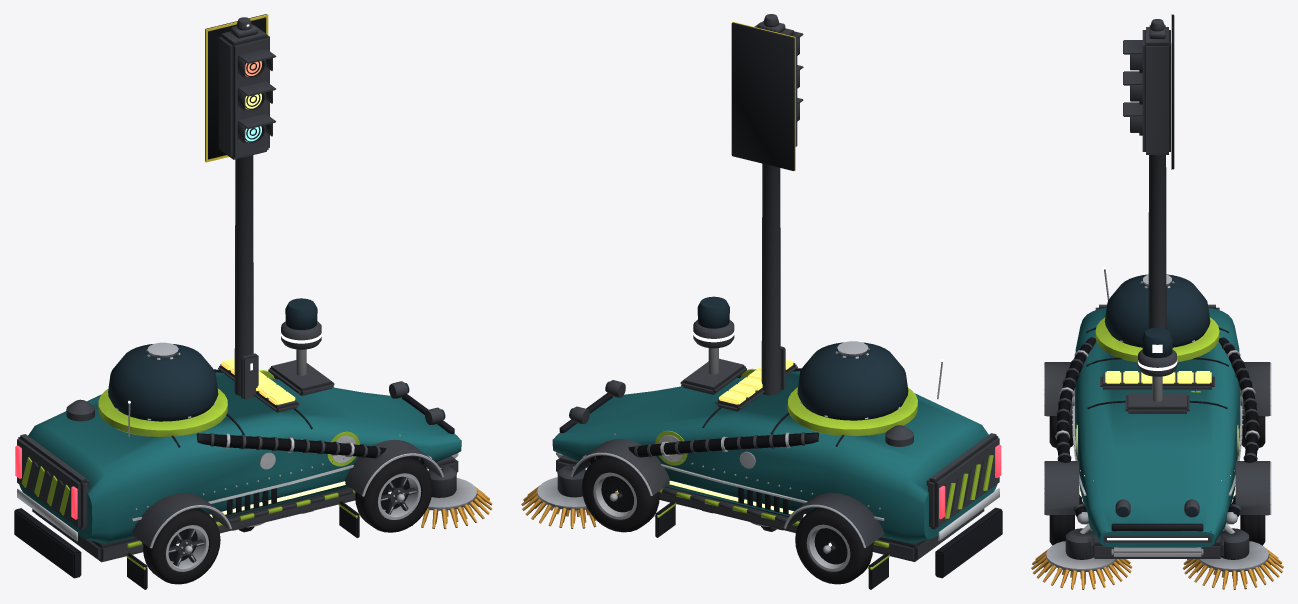
Rendered from street325.glb.
3 views of the same model, side by side, from view 1: azimuth 30°, elevation 25°; view 2: azimuth 150°, elevation 25°; view 3: azimuth 270°, elevation 25° (orthographic). The views are drawn at different scales.
Visible parts, largest first — view 1: st325_sweeper-teal, st325_sweeper-graph, st325_signal-graph, st325_sweeper-dark, st325_sweeper-glass, st325_sweeper-tyre, st325_sweeper-lime, st325_sweeper-steel, st325_signal-dark, st325_sweeper-white, st325_sweeper-spin-brushR-bristle, st325_sweeper-spin-lidar (+3 smaller); view 2: st325_sweeper-teal, st325_sweeper-graph, st325_signal-dark, st325_sweeper-dark, st325_sweeper-glass, st325_signal-graph, st325_sweeper-tyre, st325_sweeper-lime, st325_sweeper-steel, st325_sweeper-white, st325_sweeper-spin-brushL-bristle, st325_sweeper-spin-lidar (+2 smaller); view 3: st325_sweeper-teal, st325_sweeper-graph, st325_signal-graph, st325_sweeper-glass, st325_sweeper-dark, st325_sweeper-steel, st325_sweeper-tyre, st325_sweeper-lime, st325_sweeper-spin-brushL-bristle, st325_sweeper-spin-brushR-bristle, st325_sweeper-spin-brushR-disc, st325_sweeper-spin-brushL-disc (+6 smaller).
Boxes of the visible parts, x1=… form: st325_sweeper-teal: x1=19, y1=372, x2=461, y2=543; st325_sweeper-graph: x1=17, y1=321, x2=461, y2=566; st325_signal-graph: x1=218, y1=17, x2=276, y2=399; st325_sweeper-dark: x1=14, y1=369, x2=454, y2=589; st325_sweeper-glass: x1=108, y1=344, x2=445, y2=421; st325_sweeper-tyre: x1=143, y1=456, x2=432, y2=584; st325_sweeper-lime: x1=21, y1=370, x2=360, y2=570; st325_sweeper-steel: x1=116, y1=342, x2=458, y2=571; st325_signal-dark: x1=205, y1=14, x2=266, y2=160; st325_sweeper-white: x1=17, y1=436, x2=356, y2=541; st325_sweeper-spin-brushR-bristle: x1=412, y1=486, x2=492, y2=528; st325_sweeper-spin-lidar: x1=285, y1=298, x2=317, y2=329; st325_sweeper-teal: x1=553, y1=371, x2=997, y2=543; st325_sweeper-graph: x1=552, y1=319, x2=999, y2=561; st325_signal-dark: x1=731, y1=22, x2=794, y2=170; st325_sweeper-dark: x1=559, y1=368, x2=1002, y2=589; st325_sweeper-glass: x1=569, y1=342, x2=908, y2=420; st325_signal-graph: x1=754, y1=14, x2=803, y2=395; st325_sweeper-tyre: x1=582, y1=455, x2=872, y2=584; st325_sweeper-lime: x1=654, y1=368, x2=993, y2=569; st325_sweeper-steel: x1=556, y1=341, x2=942, y2=571; st325_sweeper-white: x1=658, y1=435, x2=999, y2=540; st325_sweeper-spin-brushL-bristle: x1=521, y1=485, x2=618, y2=528; st325_sweeper-spin-lidar: x1=697, y1=296, x2=729, y2=328; st325_sweeper-teal: x1=1075, y1=308, x2=1240, y2=547; st325_sweeper-graph: x1=1045, y1=304, x2=1269, y2=559; st325_signal-graph: x1=1123, y1=19, x2=1170, y2=329; st325_sweeper-glass: x1=1104, y1=274, x2=1210, y2=516; st325_sweeper-dark: x1=1046, y1=327, x2=1268, y2=531; st325_sweeper-steel: x1=1044, y1=269, x2=1271, y2=556; st325_sweeper-tyre: x1=1049, y1=416, x2=1265, y2=545; st325_sweeper-lime: x1=1076, y1=317, x2=1238, y2=524; st325_sweeper-spin-brushL-bristle: x1=1182, y1=548, x2=1283, y2=589; st325_sweeper-spin-brushR-bristle: x1=1031, y1=549, x2=1132, y2=589; st325_sweeper-spin-brushR-disc: x1=1046, y1=541, x2=1116, y2=572; st325_sweeper-spin-brushL-disc: x1=1198, y1=541, x2=1268, y2=571.
Size of the model in its own units: 3.87 by 4.7 by 2.2.
